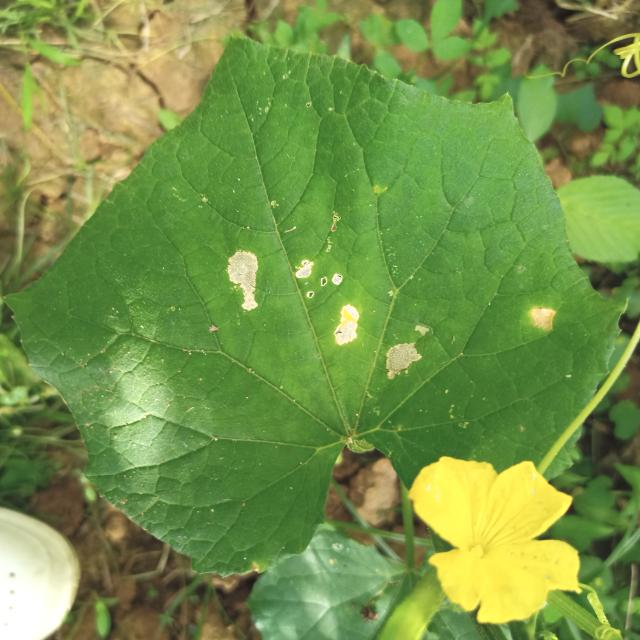disease_cucumber: (224, 247, 430, 382), (528, 303, 557, 331)
